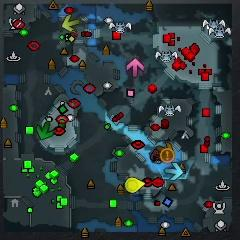Other: (160, 148, 175, 163)
p4: (124, 178, 145, 192)
x1: (127, 58, 144, 77)
x2: (62, 15, 80, 32)
x3: (165, 162, 183, 181)
x4: (37, 121, 54, 139)
x5: (157, 142, 173, 155)
